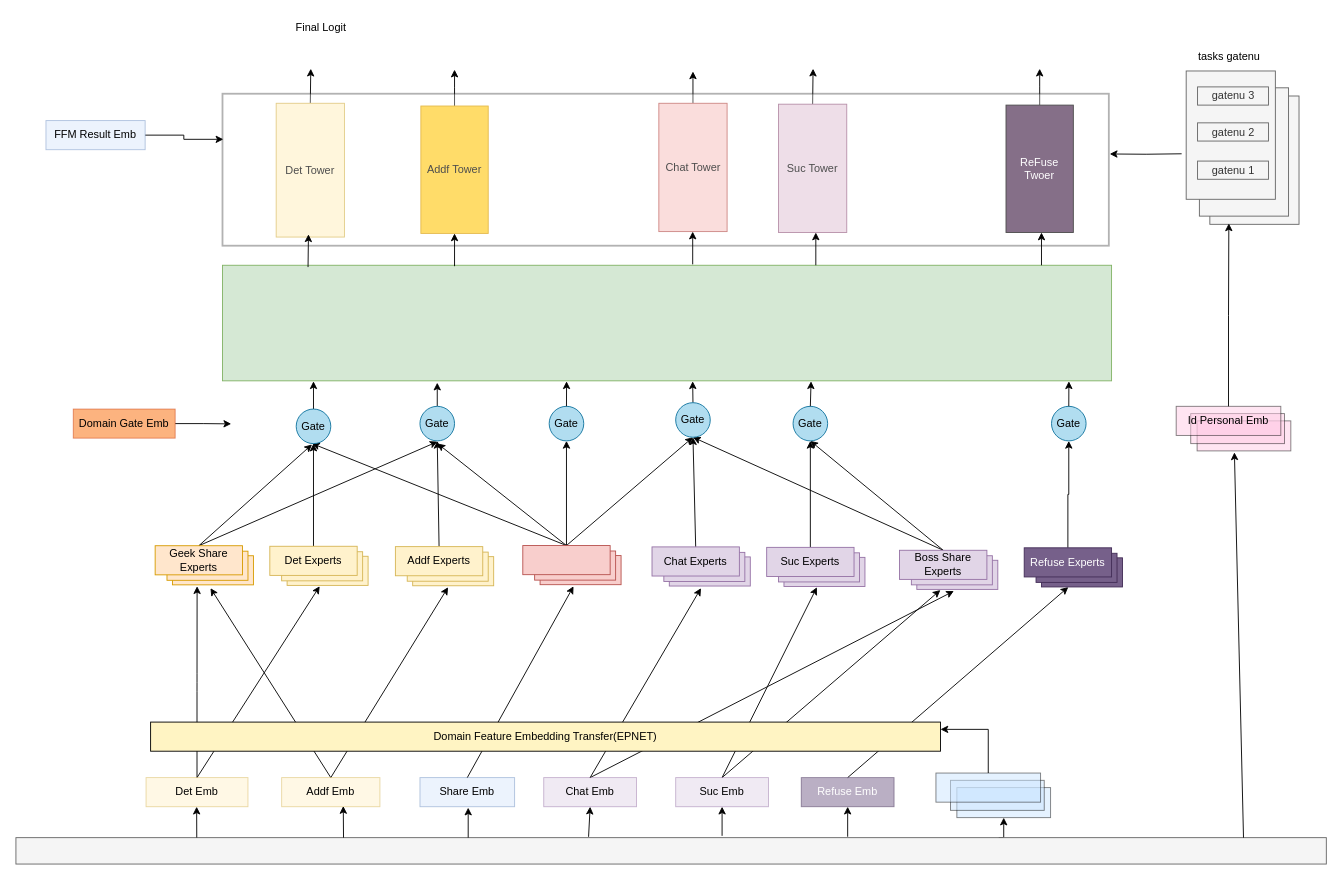
The diagram is 1342 pixels wide and 880 high, and some of its shapes have lost their labels. Here are the shapes that lost their labels. From the top down, the centre of each, then its label:
At (x=667, y=322): "PLE".
At (x=566, y=560): "Share Experts".
At (x=988, y=787): "Domain Personal Emb".
At (x=670, y=850): "Embedding Layer".
